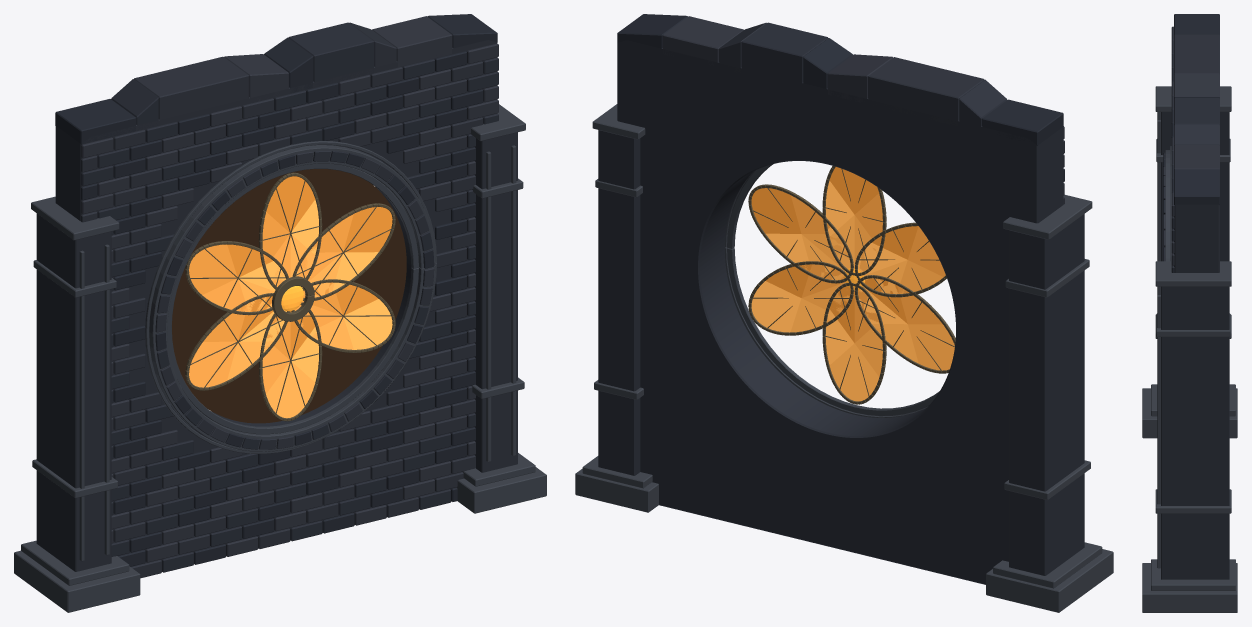
File: threshold-window.glb
3 renders of one model, left to right at view 1: azimuth 30°, elevation 25°; view 2: azimuth 150°, elevation 25°; view 3: azimuth 270°, elevation 25°, orthographic. The views are drawn at different scales.
Visible parts, largest first — view 1: threshold-window; view 2: threshold-window; view 3: threshold-window.
Boxes of the visible parts, x1,y1,x2,y2 form: threshold-window: (14,14,546,612); threshold-window: (575,14,1113,612); threshold-window: (1142,14,1237,612).
Bounding box in the file's own units: 27.6 × 26.4 × 5.4.
